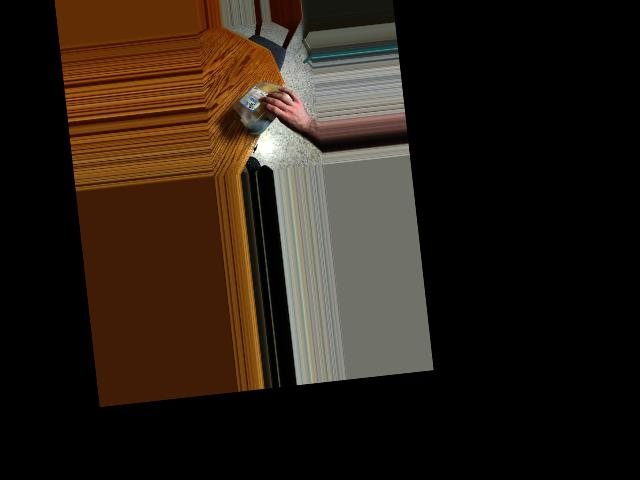cheese: (229, 75, 300, 134)
